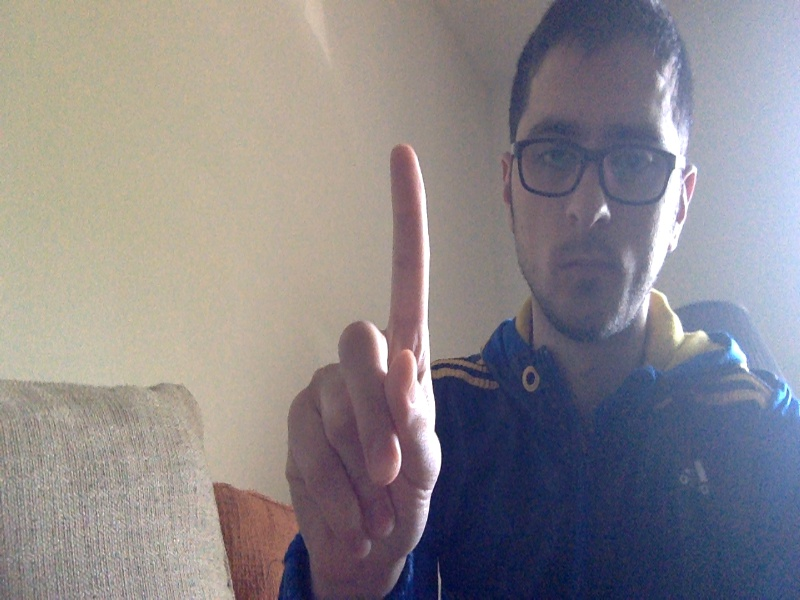1-hand: (284, 146, 444, 597)
